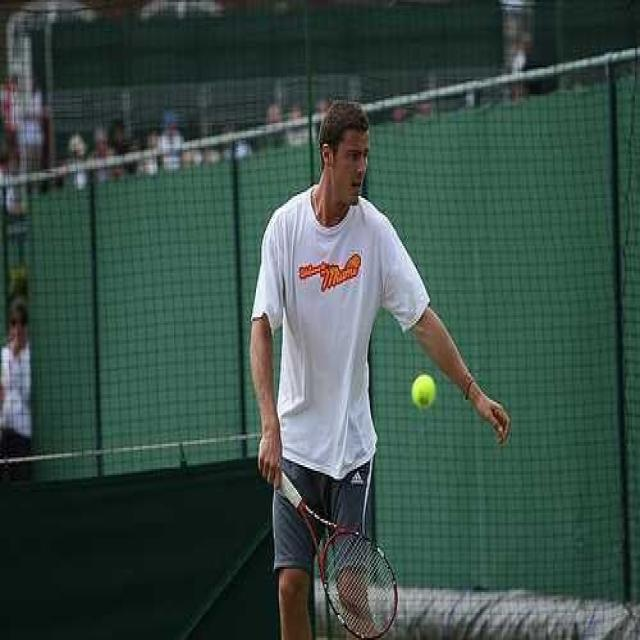Tennis_Ball: (411, 374, 437, 413)
